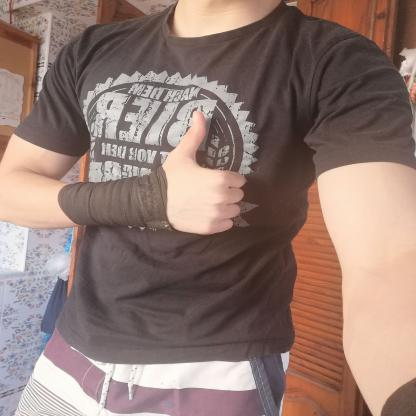ALIF: (141, 99, 259, 246)
